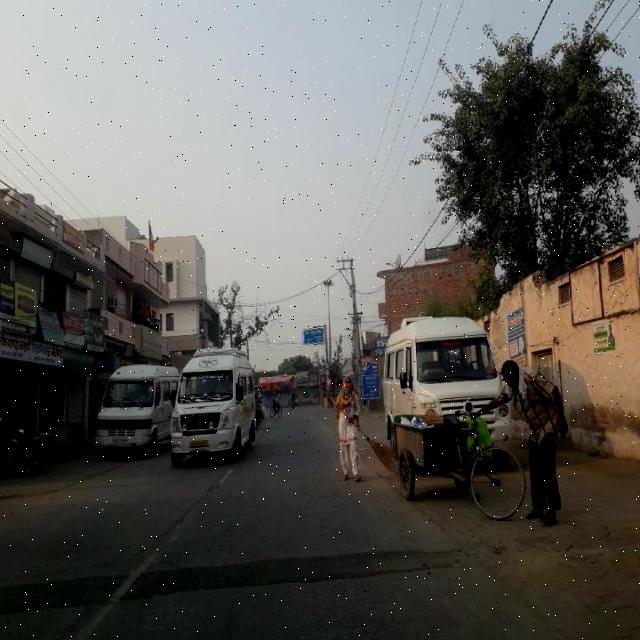D01: (131, 476, 223, 570)
